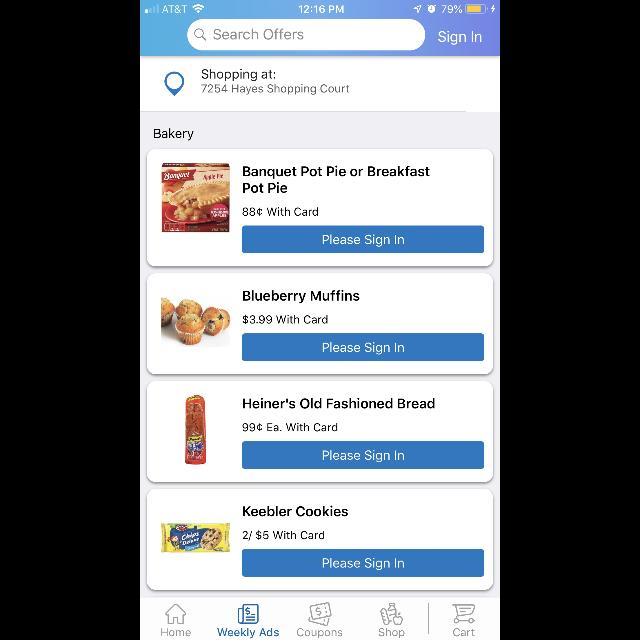icon: (308, 602, 332, 626), (165, 72, 185, 96), (452, 604, 476, 624), (166, 604, 187, 624), (238, 604, 258, 624), (195, 29, 207, 41)
image: (162, 164, 230, 232), (161, 298, 231, 347), (161, 523, 231, 553), (186, 395, 207, 465), (381, 602, 404, 626)
input: (187, 20, 425, 50)
text: (242, 166, 430, 194), (243, 398, 435, 408), (201, 84, 349, 96), (242, 290, 360, 304), (214, 28, 304, 40), (244, 506, 348, 516), (242, 530, 324, 542), (242, 422, 338, 432), (202, 69, 276, 81), (242, 314, 328, 324), (217, 628, 279, 638), (438, 31, 482, 45), (244, 208, 318, 216), (154, 128, 194, 142), (297, 628, 343, 638), (379, 628, 405, 638), (161, 628, 191, 636), (453, 628, 475, 636)
textbutton: (242, 225, 484, 253), (242, 333, 484, 361), (242, 441, 484, 469), (242, 549, 484, 577)
uppertaskbar: (140, 0, 500, 14)
